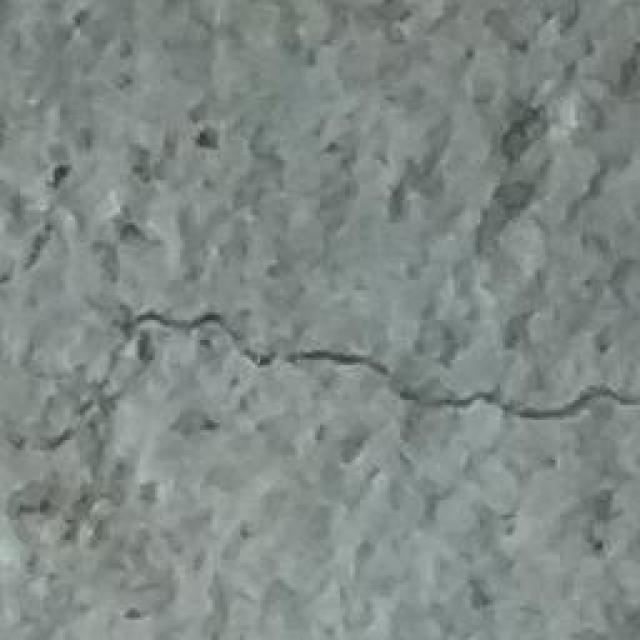Radial: (9, 219, 640, 478)
